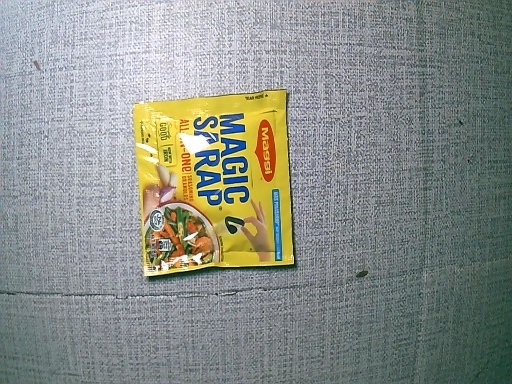plastic: (135, 90, 294, 277)
